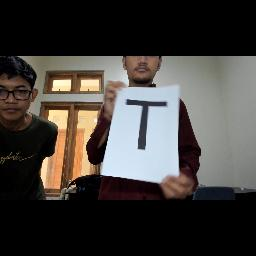t: (122, 95, 168, 153)
